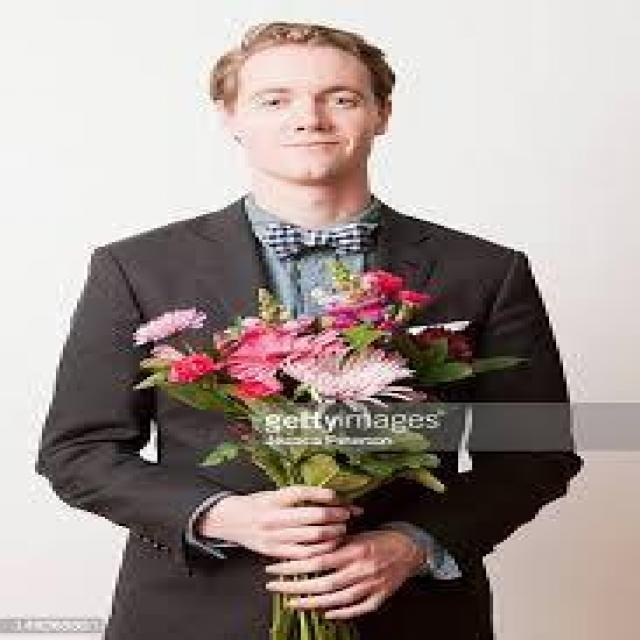organic waste: (135, 274, 498, 440)
